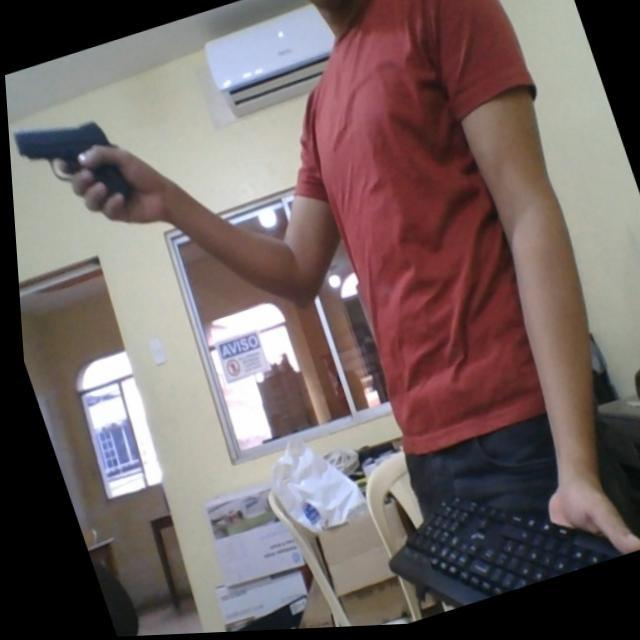weapon: (6, 100, 133, 229)
